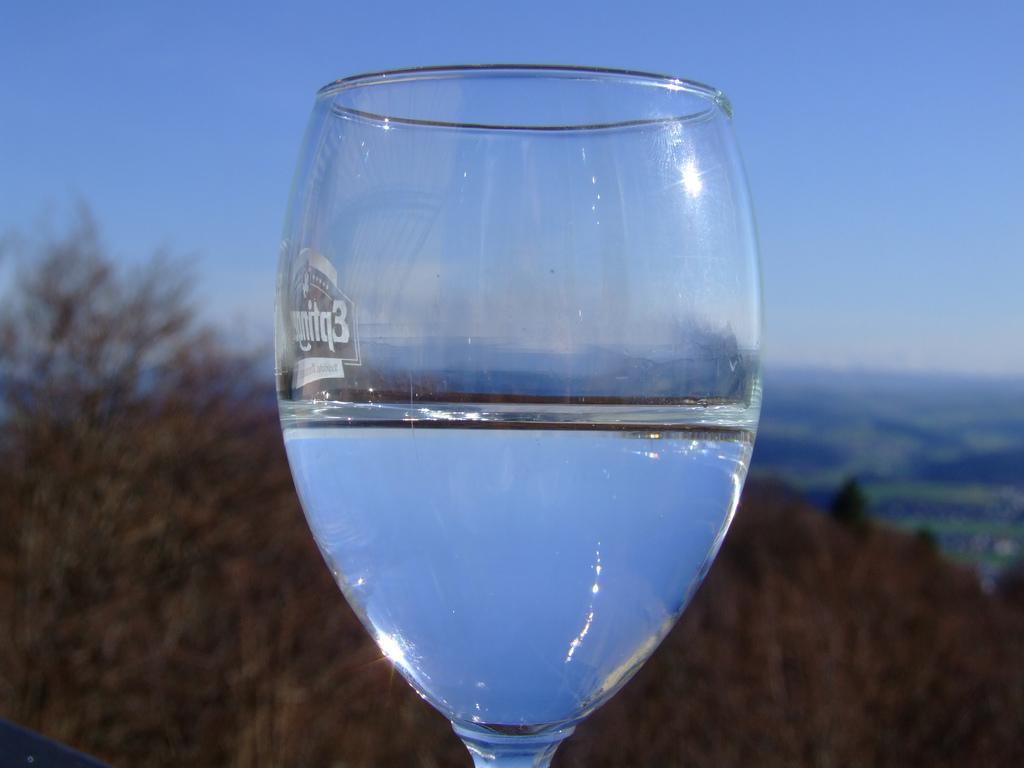glass of water: (256, 44, 797, 768)
